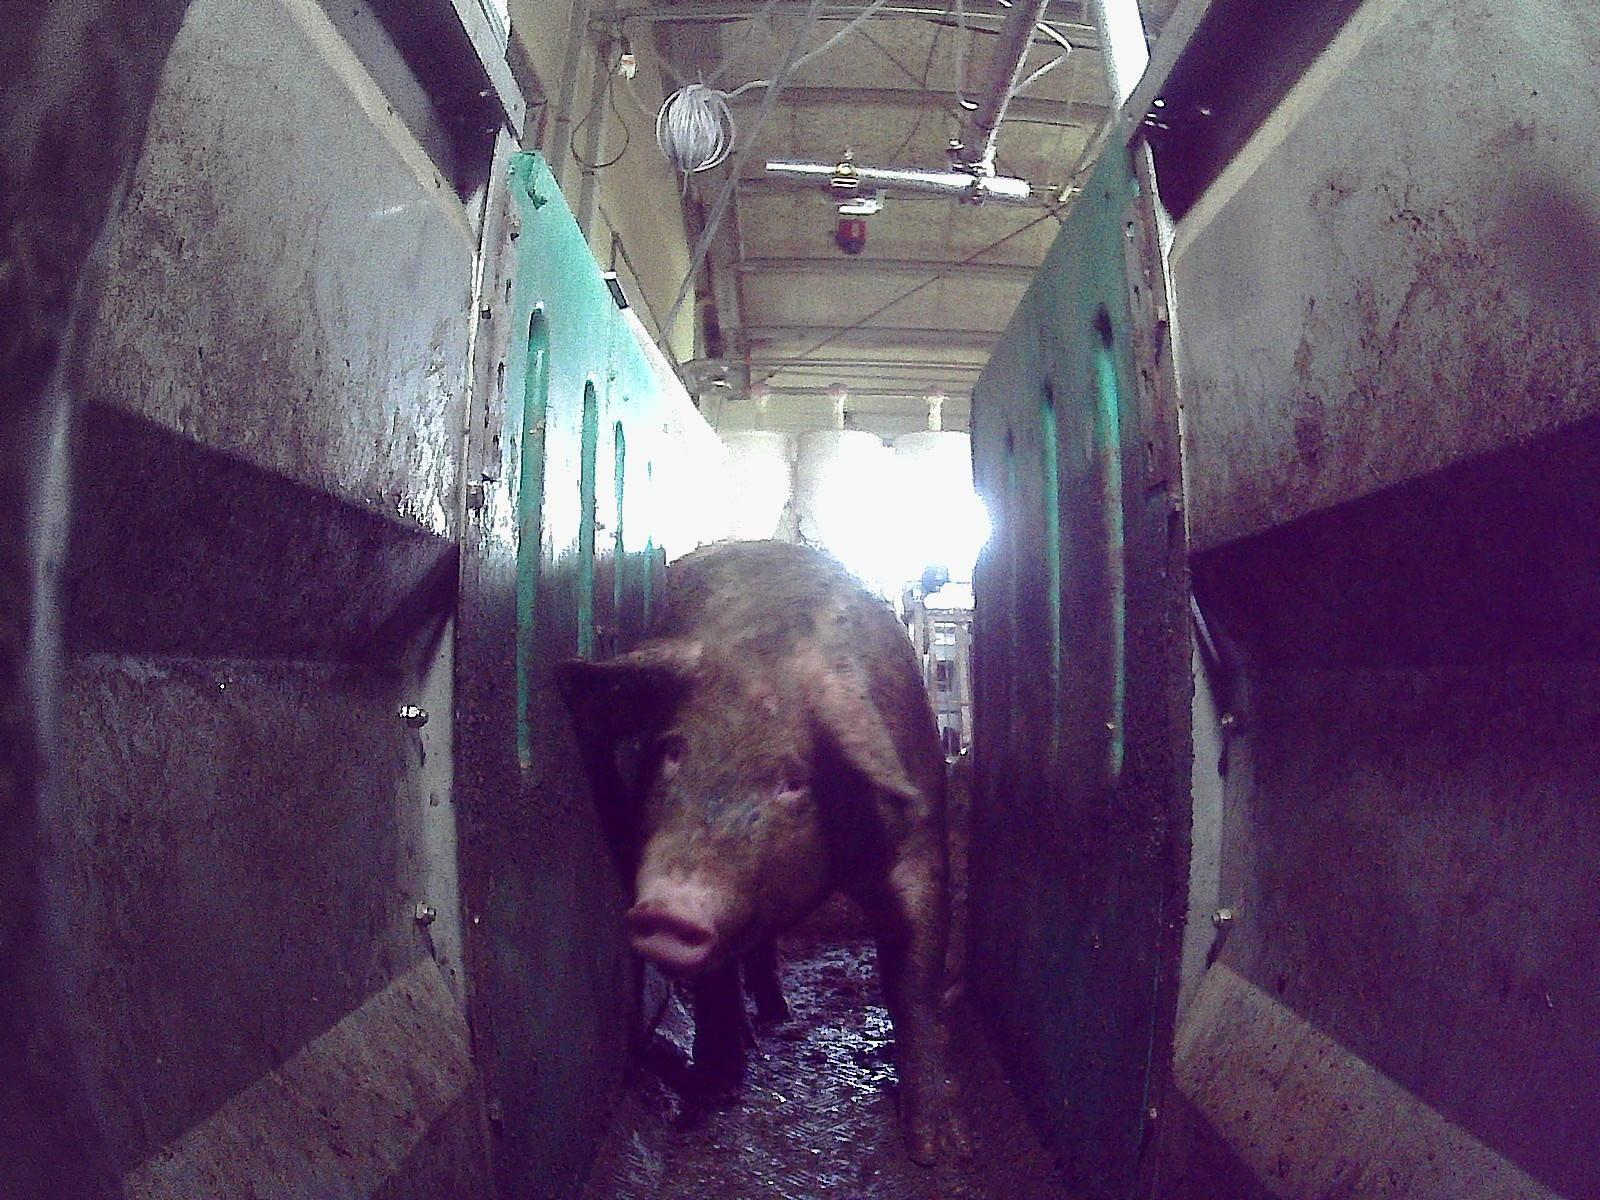Face: (625, 650, 855, 978)
